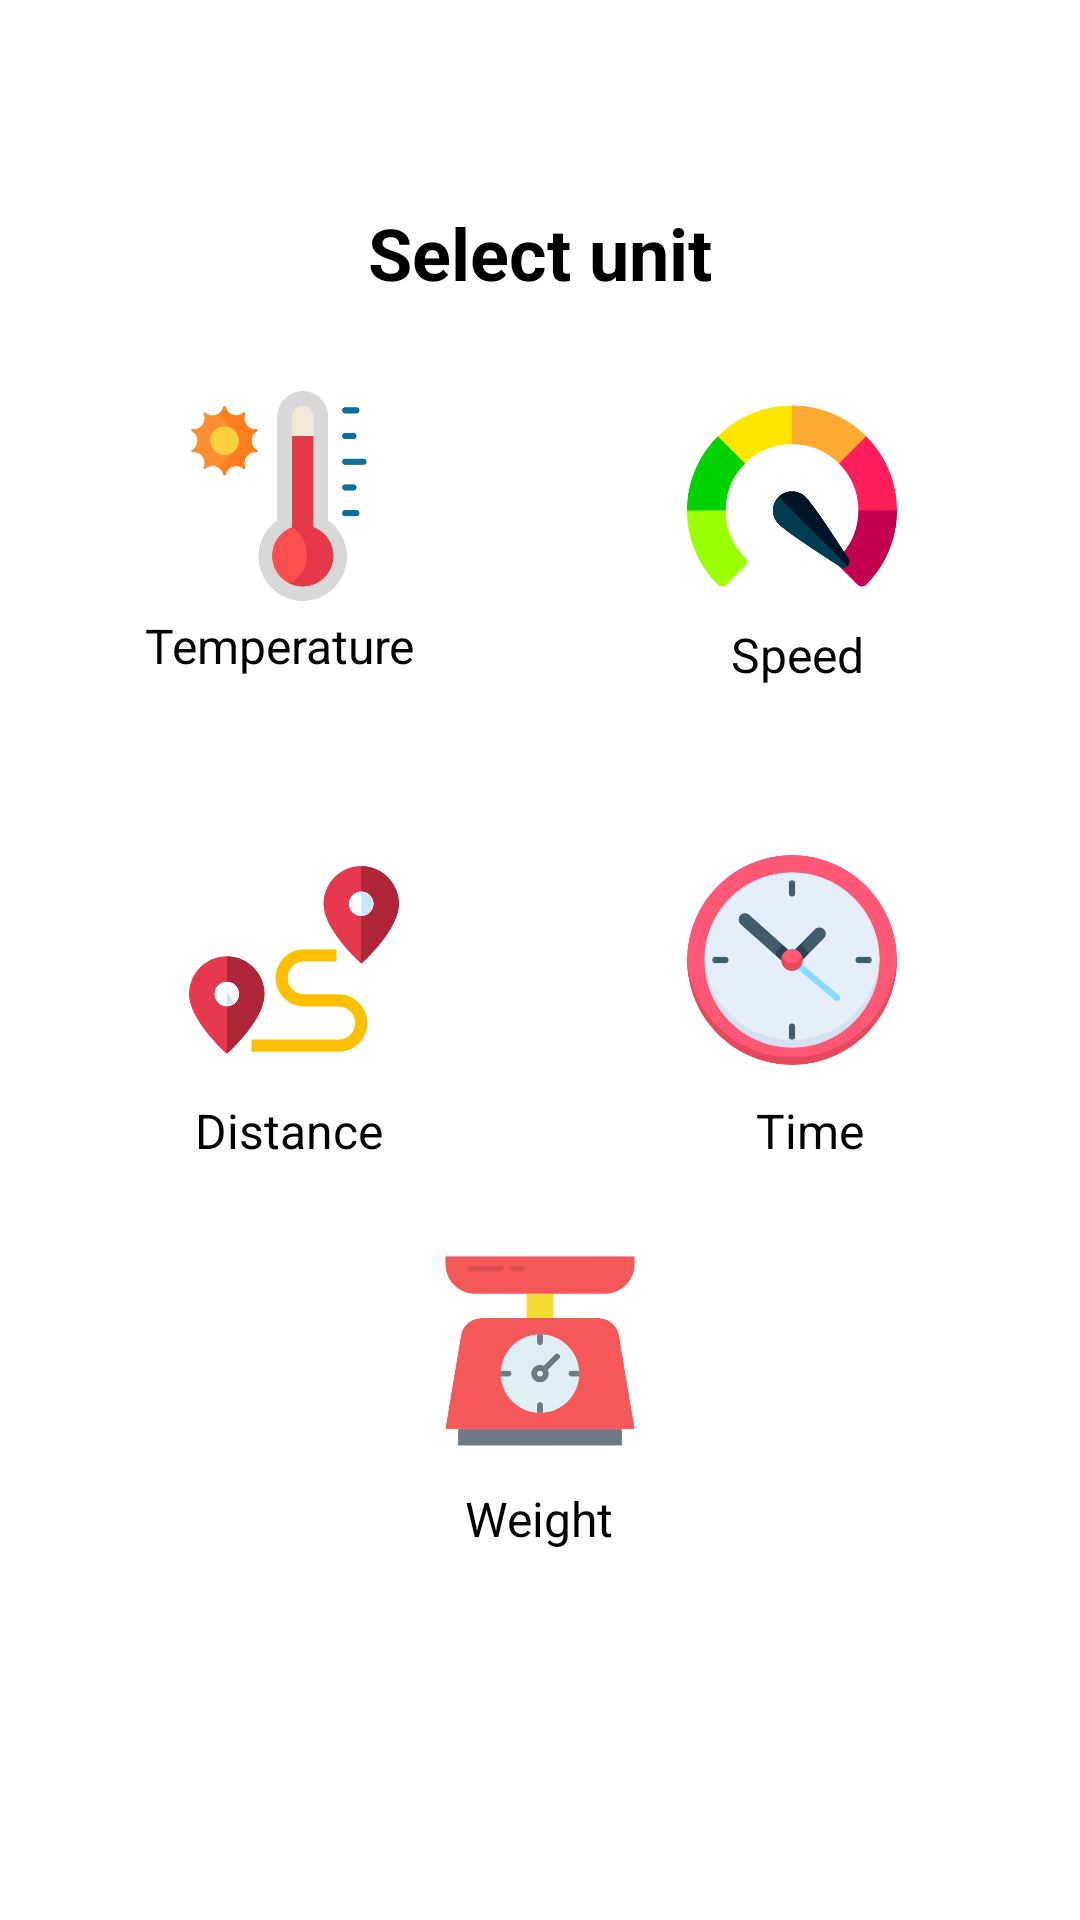

Icon bounding boxes for this 1080×1920 phone screenshot, format [x1=x1, y1=y1, x2=x2, y2=y2]:
clock: [x1=687, y1=855, x2=897, y2=1065]
hot: [x1=191, y1=391, x2=367, y2=601]
